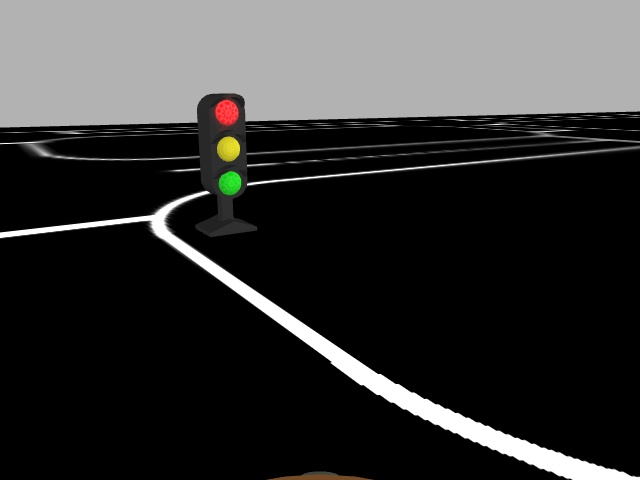red_light: (204, 92, 248, 198)
